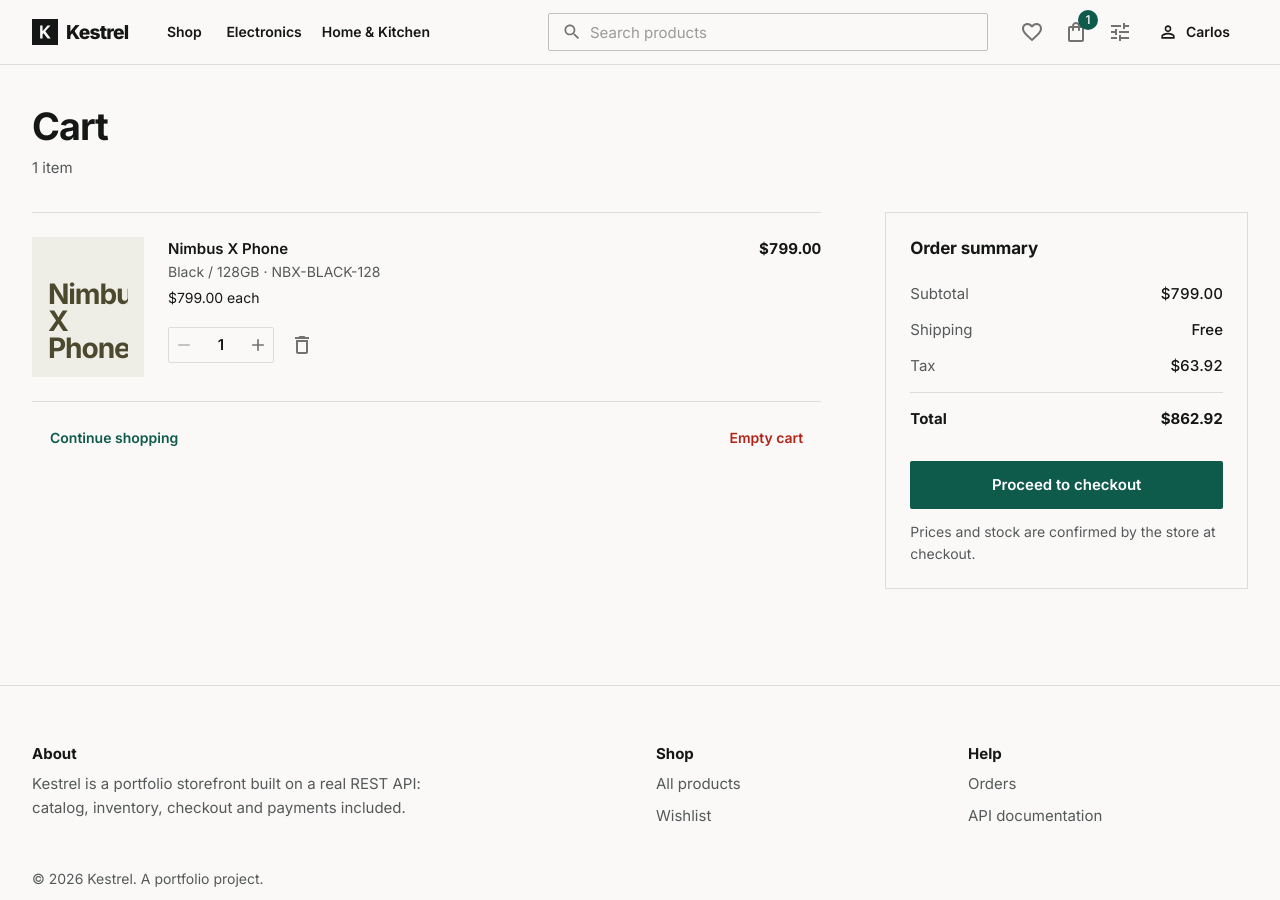
Test: cart page › updates quantities with a single debounced request
The image size is (1280, 900).
Click the button named "Increase quantity" at (258, 345), box left=243, top=330, right=273, bottom=360
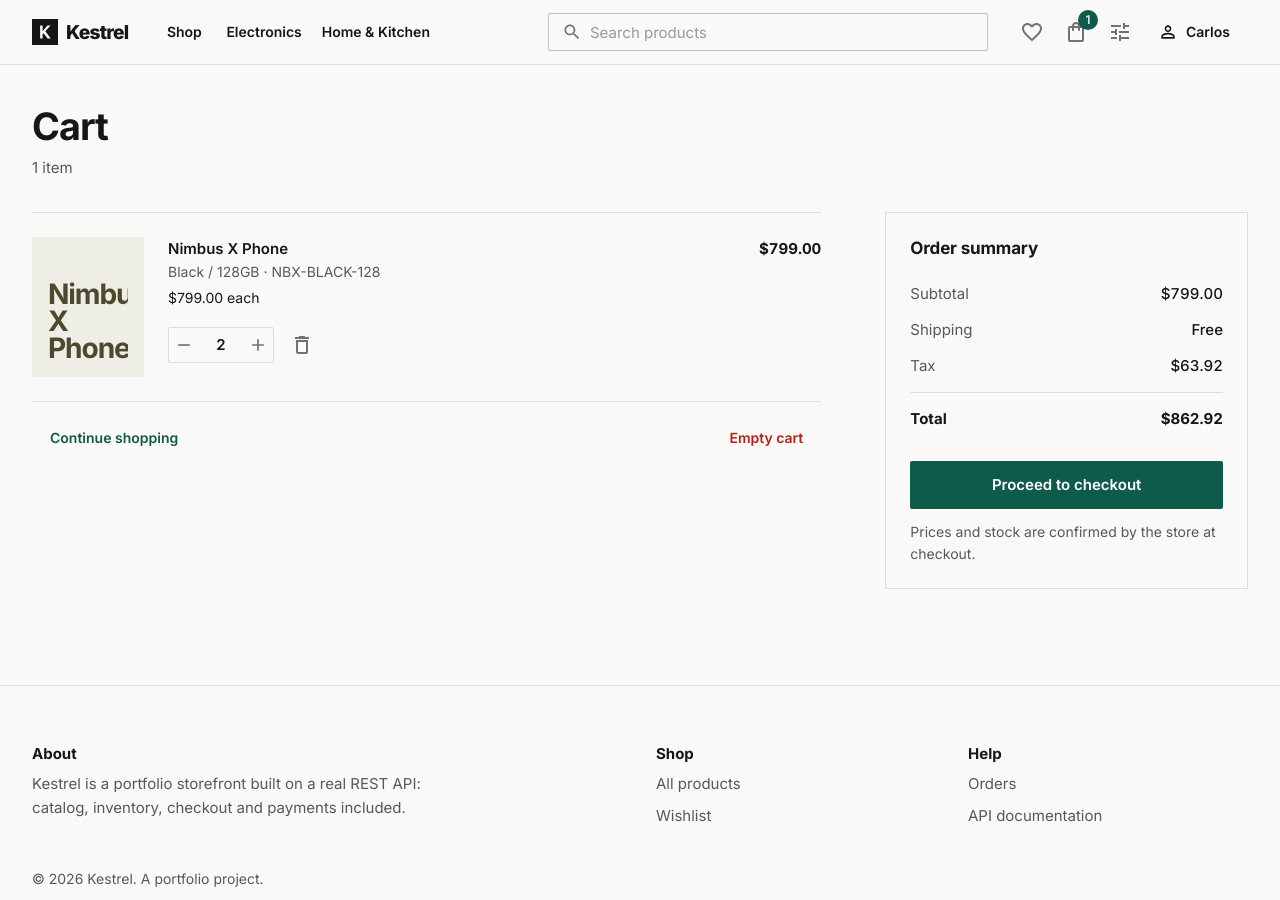
Click the button named "Increase quantity" at (258, 345), box left=243, top=330, right=273, bottom=360
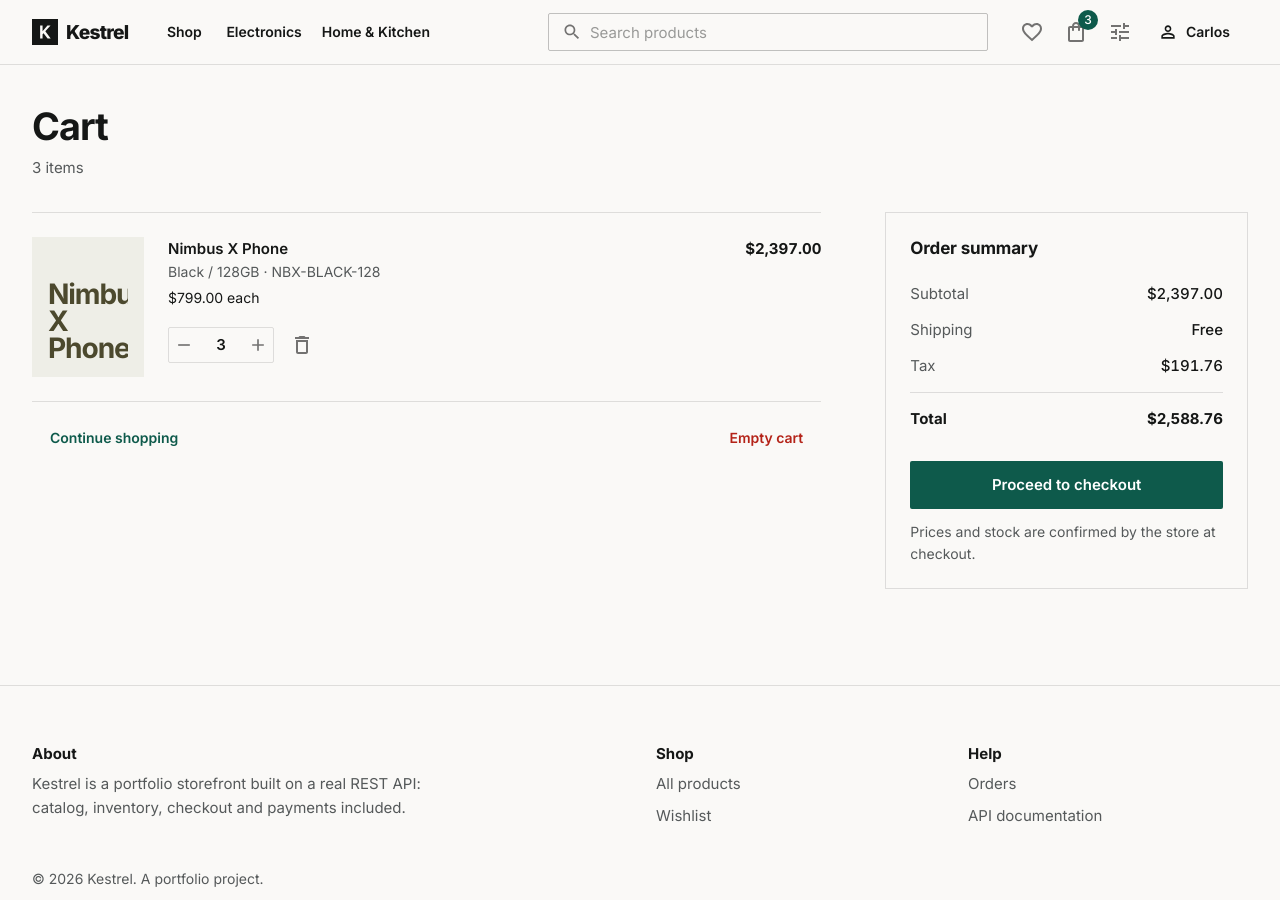
Now the text "$2,397.00" is shown, box left=1147, top=282, right=1223, bottom=306
